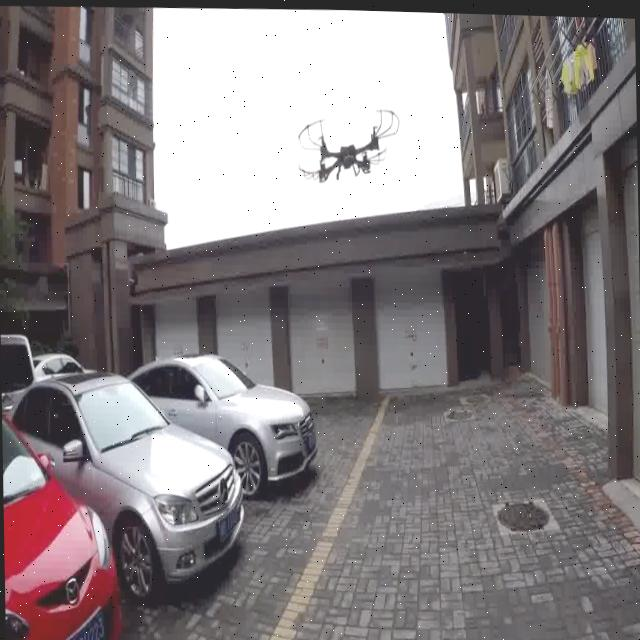drone: (280, 89, 409, 195)
